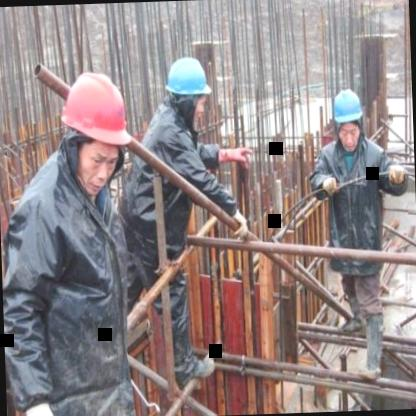helmet: (56, 60, 134, 193), (162, 51, 214, 126), (330, 86, 366, 152)
